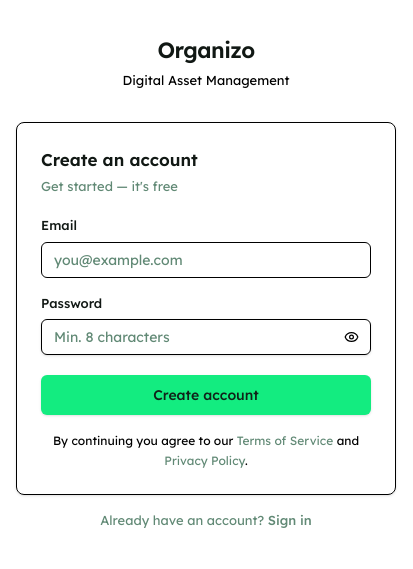
Test: SignUpPage › validation › shows 'Enter a valid email' for a malformed email address
Type "not-an-email" into the field labelled "Email".
click(206, 260); type("not-an-email")  # box [41,242,371,278]
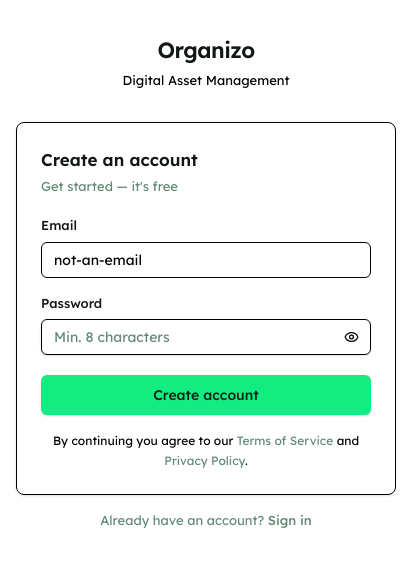
Click the button "Create account".
click(206, 395)  # box [41,375,371,415]
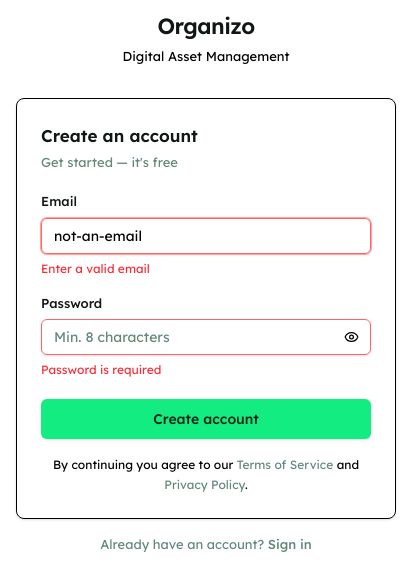
Check: the text "Enter a valid email" is shown, box [41,260,150,276]
